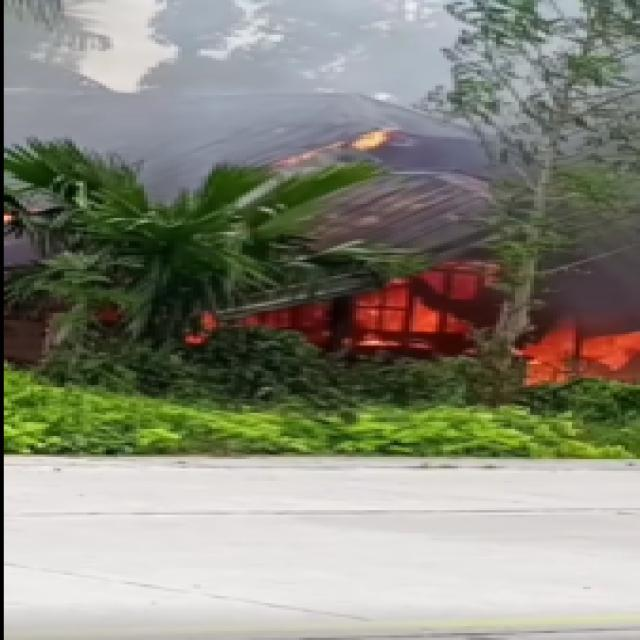Fire: (338, 268, 640, 402)
Smoke: (82, 14, 454, 206)
